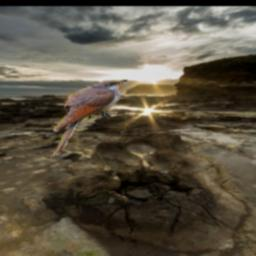Cuckoo: (53, 80, 127, 156)
